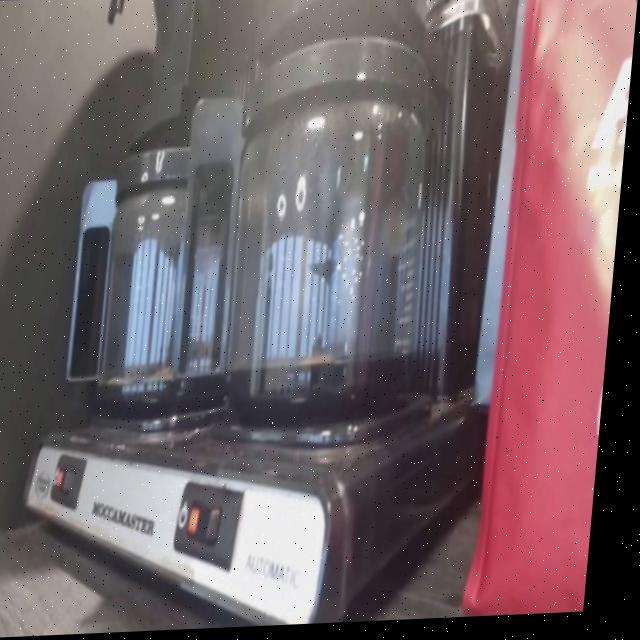coffee: (217, 26, 447, 457), (94, 128, 265, 426)
